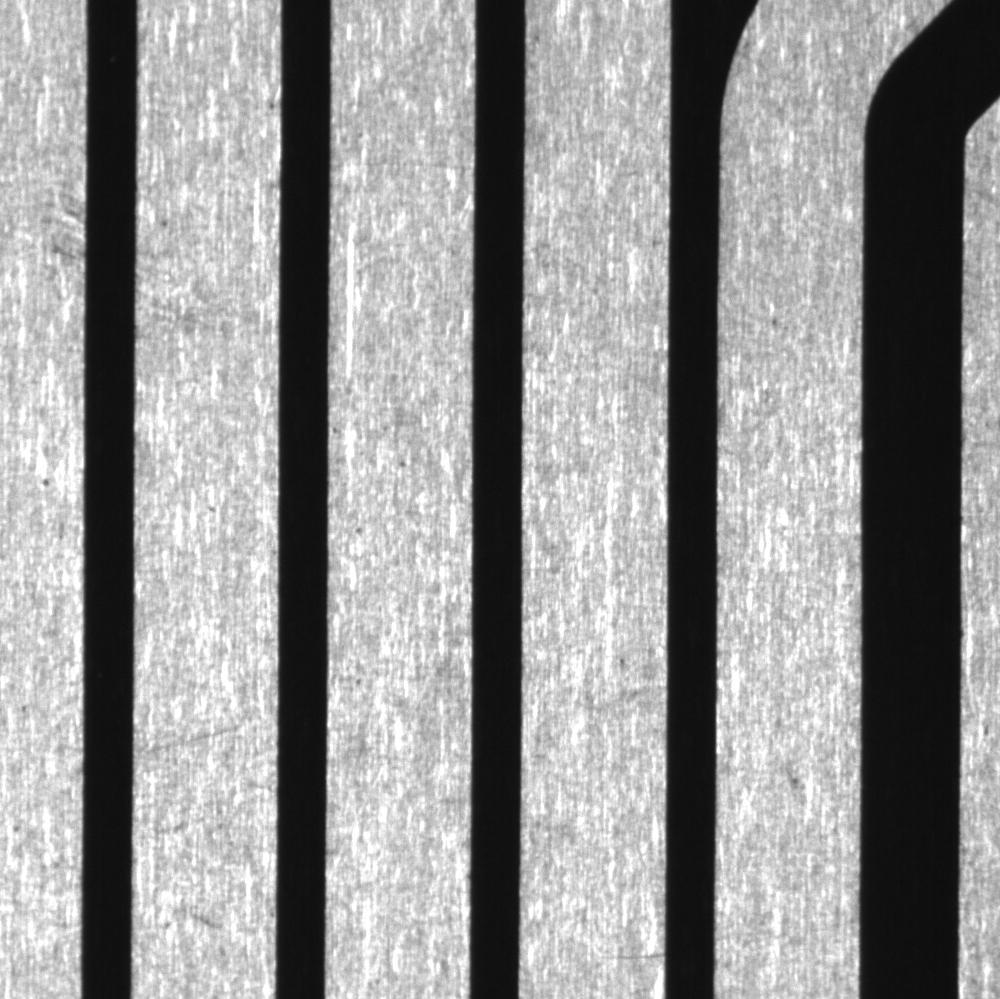Pinhole: (26, 459, 65, 501), (155, 210, 176, 236)
Scar: (137, 716, 245, 762), (330, 152, 474, 177), (175, 893, 235, 948), (588, 940, 665, 967)
